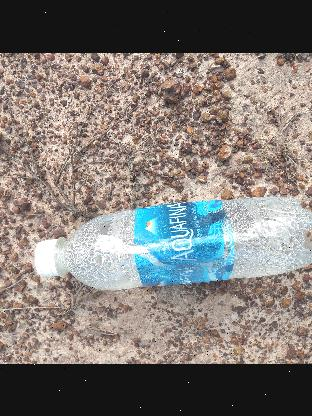Plastic Bottle: (34, 196, 312, 289)
